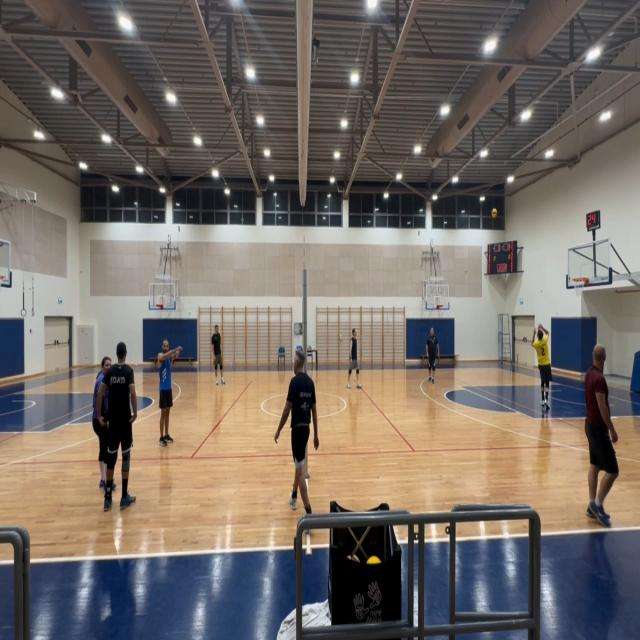volleyball: (492, 208, 498, 219)
